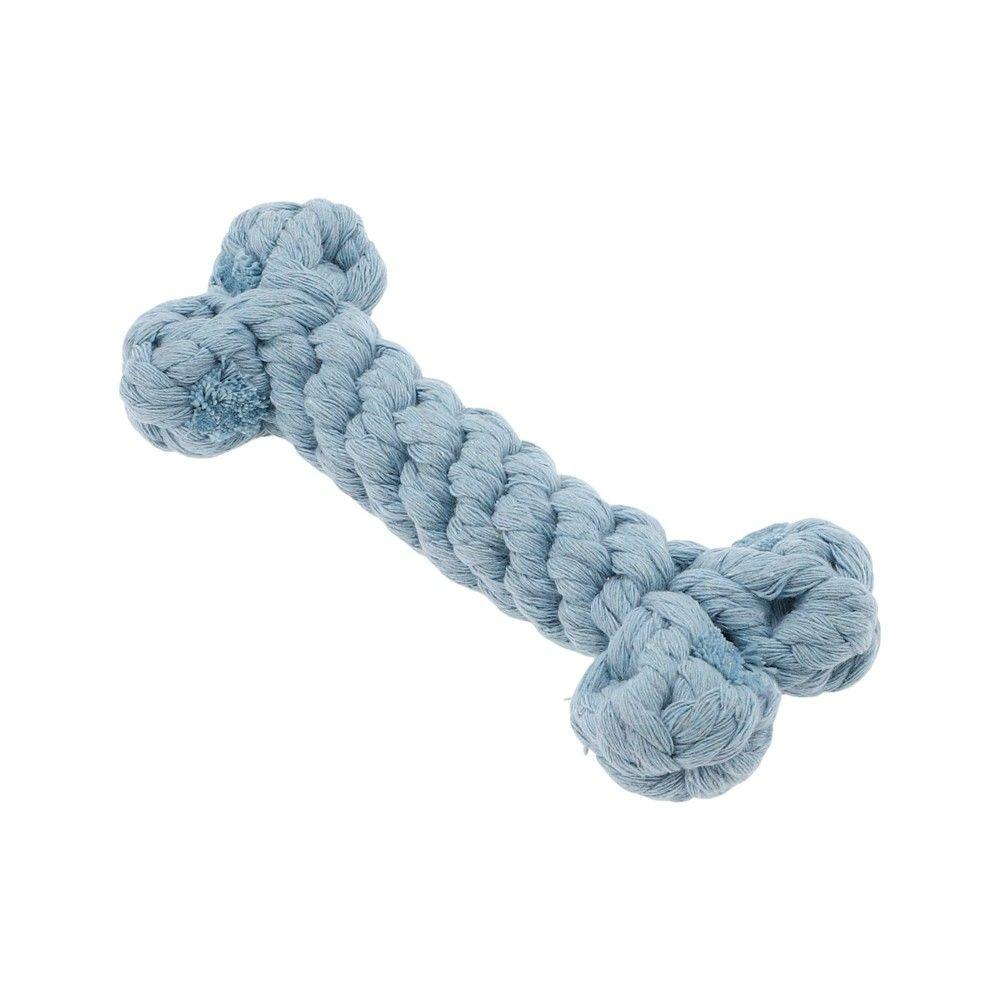non-dog: (110, 186, 890, 808)
